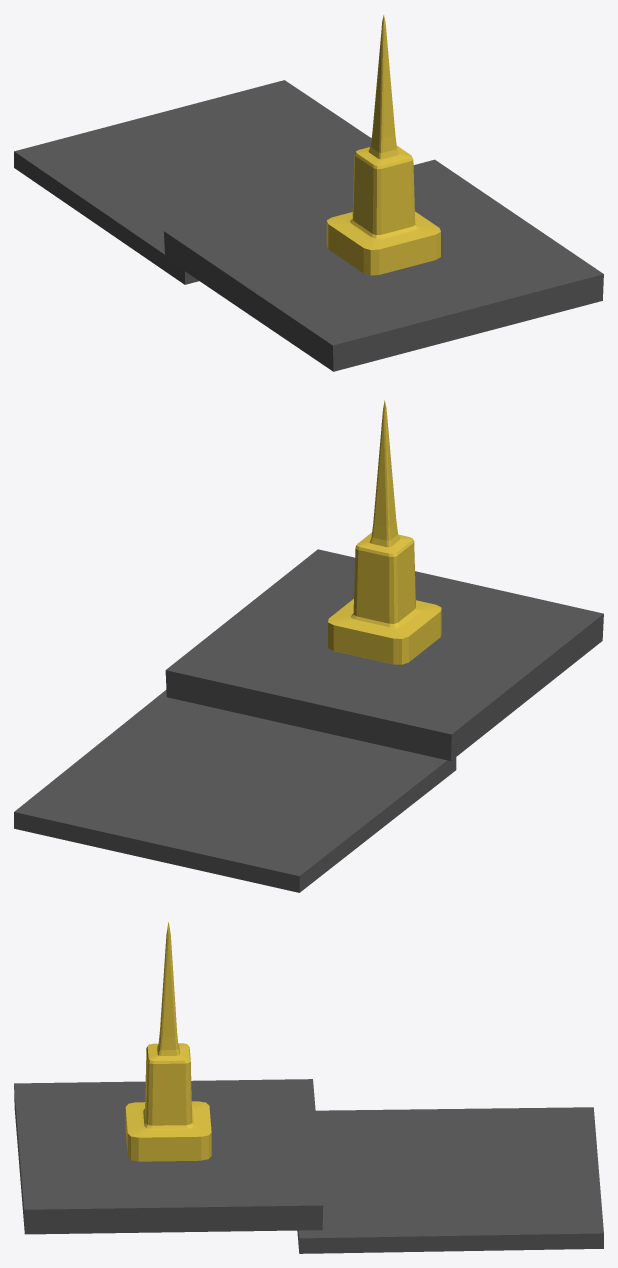
Rendered from TelhadosCorrigidos.fbx.
The picture shows the model from 3 angles, top to bottom: view 1: azimuth 30°, elevation 25°; view 2: azimuth 150°, elevation 25°; view 3: azimuth 270°, elevation 25°; orthographic projection. The views are drawn at different scales.
Parts seen in each view (by area): view 1: Telhado e Antena; view 2: Telhado e Antena; view 3: Telhado e Antena.
Boxes of the visible parts, left/top/right/bottom form: Telhado e Antena: left=14, top=15, right=603, bottom=371; Telhado e Antena: left=14, top=400, right=603, bottom=892; Telhado e Antena: left=14, top=922, right=603, bottom=1253.
Bounding box in the file's own units: 1443 × 1368 × 2741.
